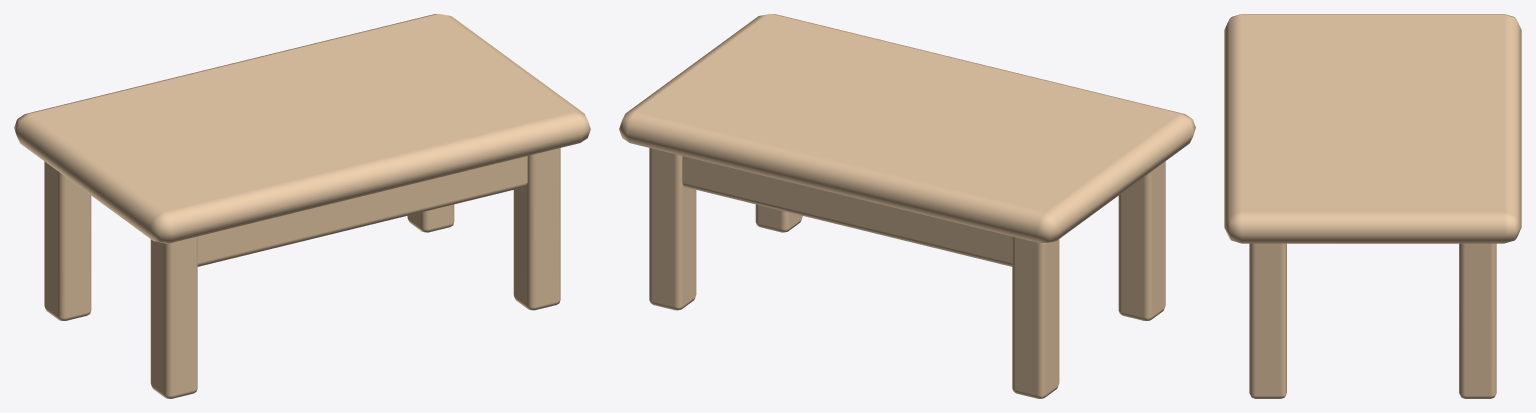
The model's file is show_study_tea_table.glb.
The picture shows the model from 3 angles, left to right: view 1: azimuth 30°, elevation 25°; view 2: azimuth 150°, elevation 25°; view 3: azimuth 270°, elevation 25°; orthographic projection.
Bounding box in the file's own units: 1.6 × 0.68 × 0.95.
